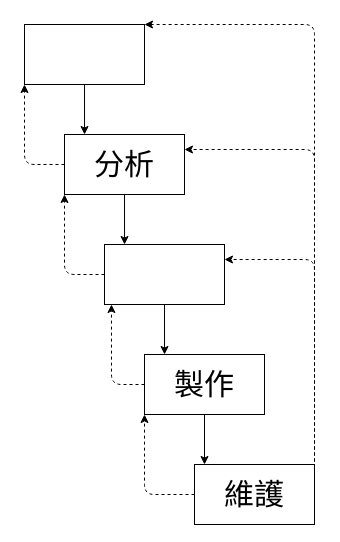
Some shapes in this 340 by 542 pixel diagram are drawn without their labels. Here are the shapes that lost their labels. From the top down, the box of each, then its label:
(24, 24, 144, 84): 需求
(104, 244, 224, 304): 設計
